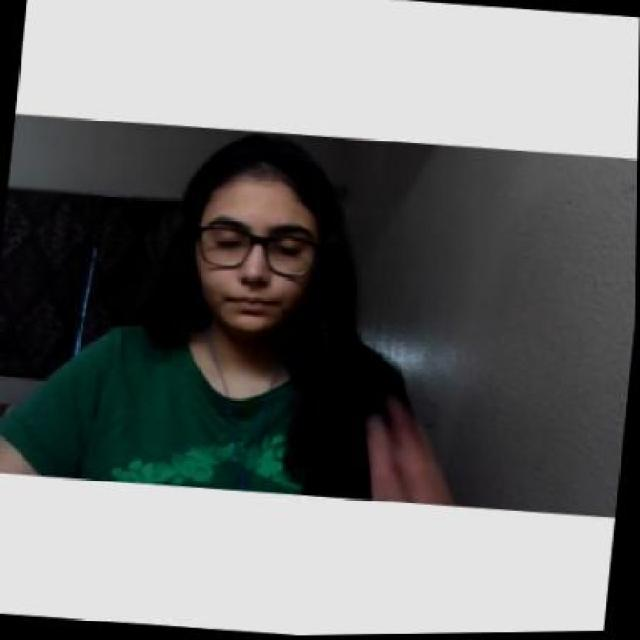inattentif: (178, 129, 340, 340)
